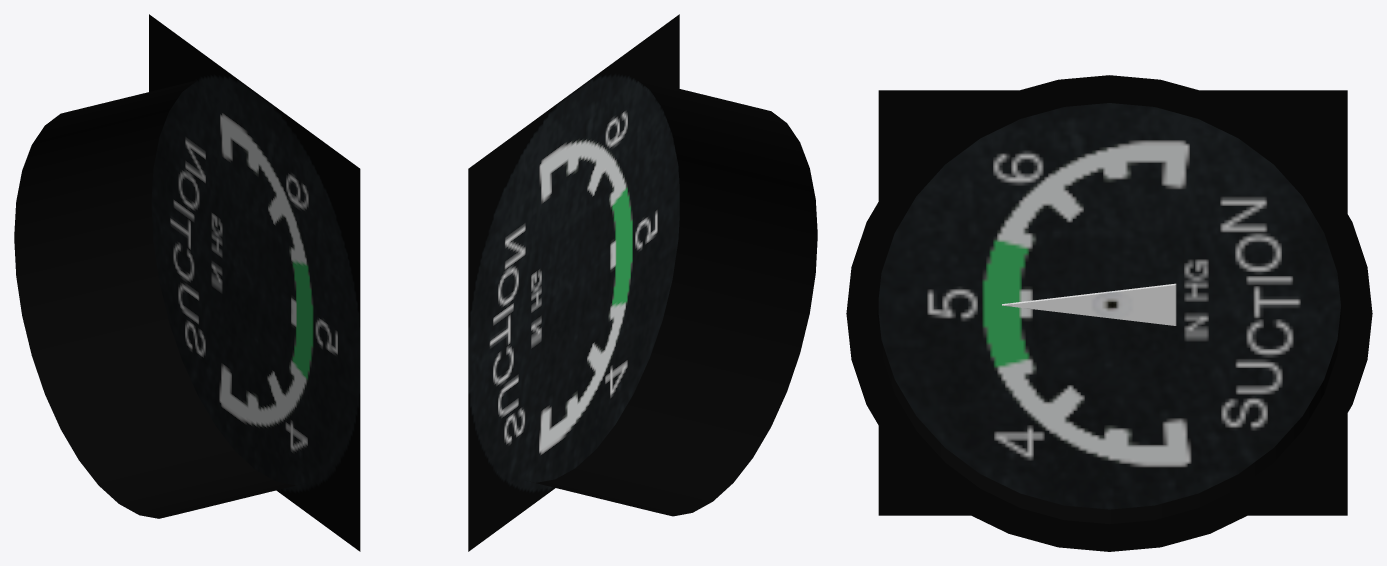
File: vac.gltf
3 renders of one model, left to right at view 1: azimuth 30°, elevation 25°; view 2: azimuth 150°, elevation 25°; view 3: azimuth 270°, elevation 25°, orthographic. The views are drawn at different scales.
Visible parts, largest first — view 1: VacFace, Case; view 2: VacFace, Case; view 3: VacFace, Case, VacNeedle.
Boxes of the visible parts, <box> form: VacFace: <box>149,14,360,551</box>; Case: <box>14,80,300,518</box>; VacFace: <box>468,14,679,551</box>; Case: <box>530,77,817,516</box>; VacFace: <box>878,90,1347,515</box>; Case: <box>846,75,1372,551</box>; VacNeedle: <box>1002,283,1176,325</box>.
Size of the model in its own units: 0.00908 by 0.0227 by 0.0227.
Materials: 1 (1 with a texture image).
